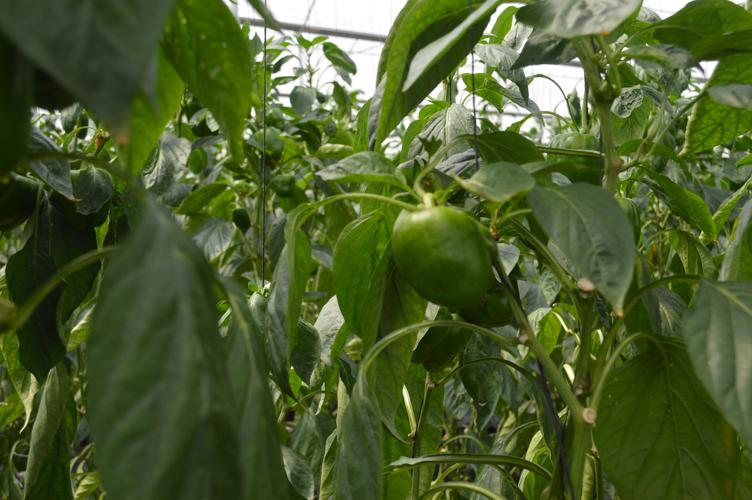BellPepper: (388, 208, 495, 306), (549, 132, 604, 182), (466, 291, 515, 334)
